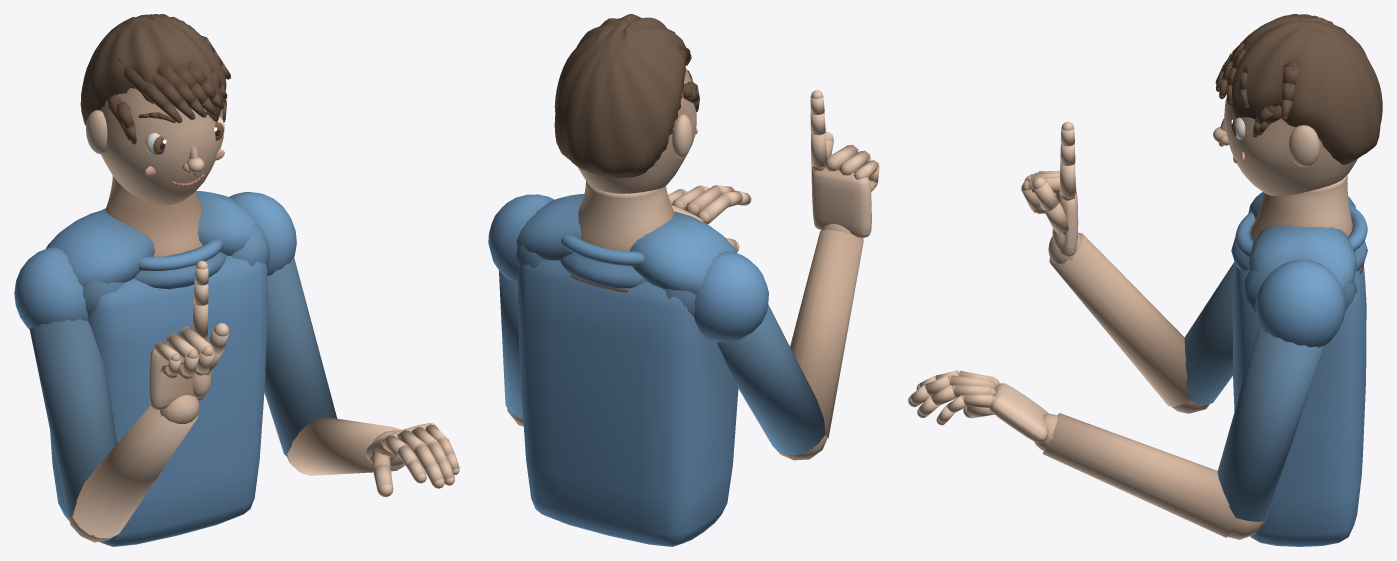
3 renders of one model, left to right at view 1: azimuth 30°, elevation 25°; view 2: azimuth 150°, elevation 25°; view 3: azimuth 270°, elevation 25°, orthographic.
Parts seen in each view (by area): view 1: LSC_Body; view 2: LSC_Body; view 3: LSC_Body.
Part boxes in pixels (x1,y1,x2,y2): LSC_Body: (14,14,459,546); LSC_Body: (488,14,879,546); LSC_Body: (908,14,1382,546).
Size of the model in its own units: 0.4304 by 0.713 by 0.6104.
